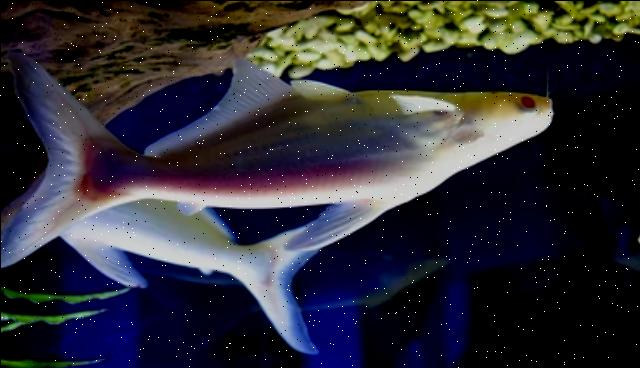Mulut: (518, 84, 558, 122)
Sirip Anal: (134, 52, 284, 160)
Sirip Dada: (371, 86, 459, 118)
Sirip Ekor: (0, 52, 116, 268)
Sirip Perut: (284, 72, 352, 102)
Sirip Punggung: (280, 204, 378, 251)
